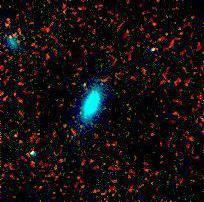star: (70, 72, 100, 102)
